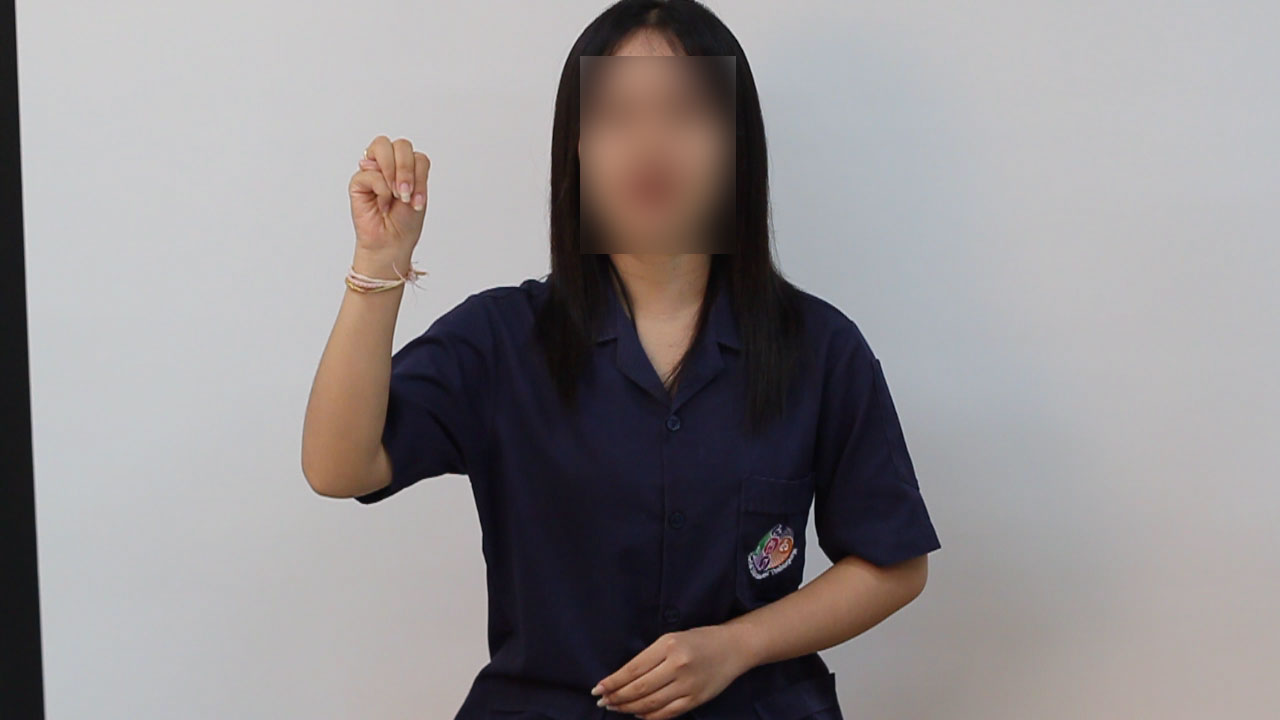mor: (339, 123, 442, 262)
